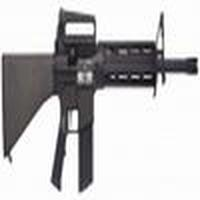gun: (2, 9, 192, 152)
